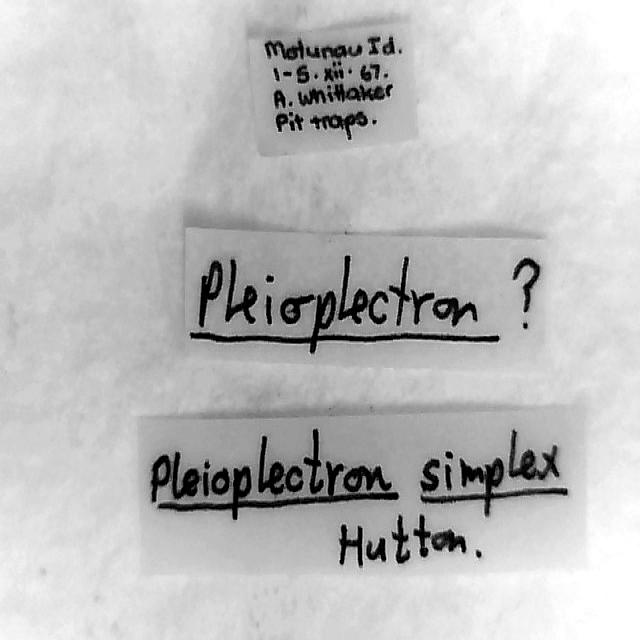hand_label: (140, 407, 585, 574), (185, 229, 546, 366), (249, 22, 418, 155)
